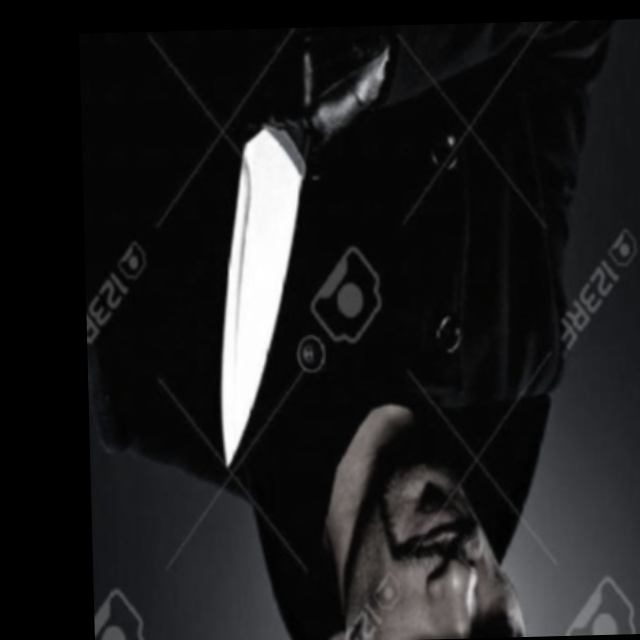Sharp-Object: (213, 122, 322, 468)
